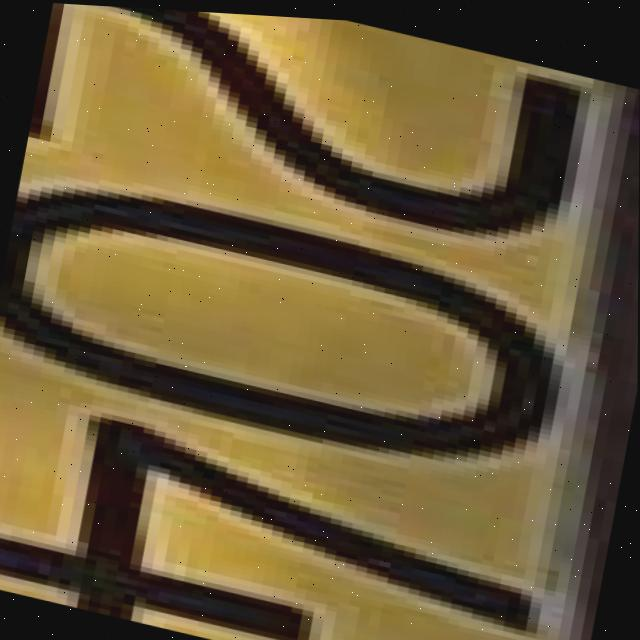character: (0, 159, 598, 501), (25, 2, 604, 271), (0, 380, 568, 640)
